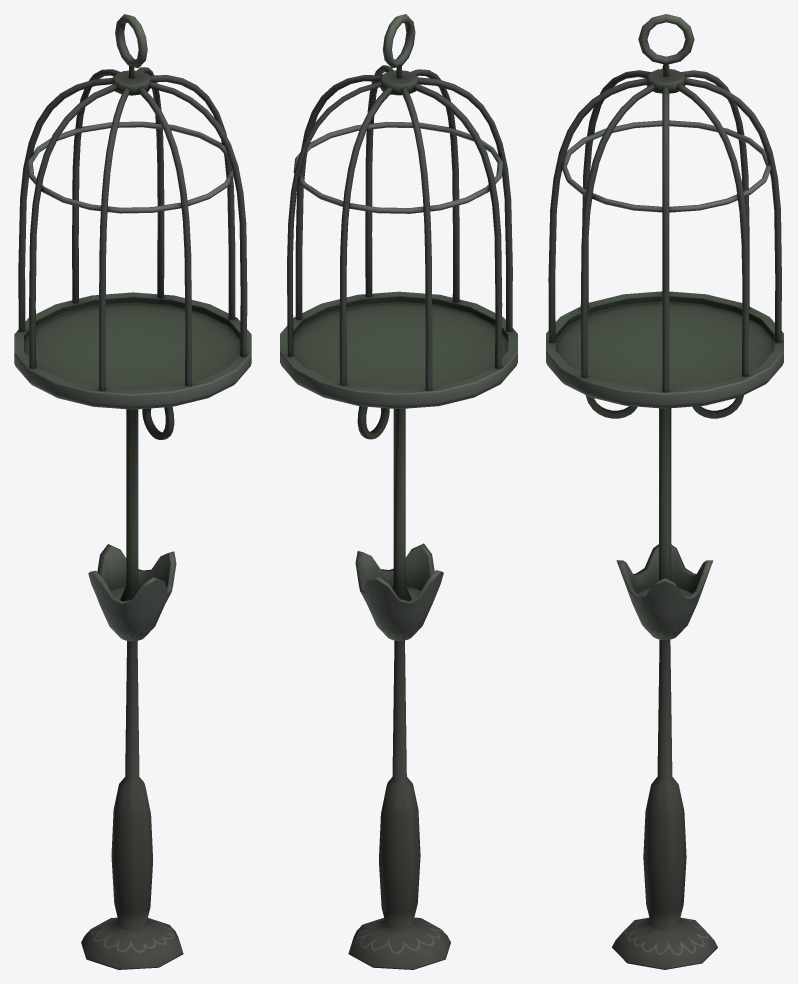
File: bird_cage.glb
3 views of the same model, side by side, from view 1: azimuth 30°, elevation 25°; view 2: azimuth 150°, elevation 25°; view 3: azimuth 270°, elevation 25° (orthographic).
Visible parts, largest first — view 1: fc_bird_cage.smd; view 2: fc_bird_cage.smd; view 3: fc_bird_cage.smd.
Boxes of the visible parts, x1=… form: fc_bird_cage.smd: x1=14, y1=14, x2=251, y2=969; fc_bird_cage.smd: x1=280, y1=14, x2=517, y2=969; fc_bird_cage.smd: x1=546, y1=14, x2=783, y2=969.
Size of the model in its own units: 0.634 by 2.7 by 0.6244.
Materials: 1 (1 with a texture image).
